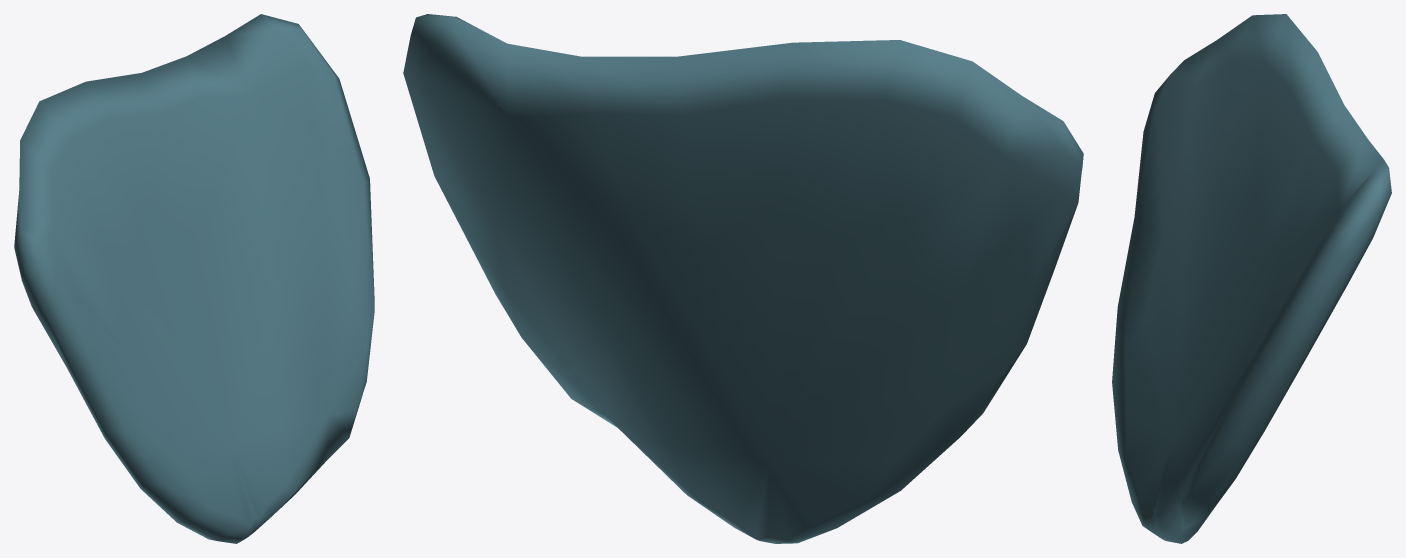
Rendered from Extensor_digitorum-proximal_phalanx-4th_finger.l_Generated_Mesh.glb.
The picture shows the model from 3 angles, left to right: view 1: azimuth 30°, elevation 25°; view 2: azimuth 150°, elevation 25°; view 3: azimuth 270°, elevation 25°; orthographic projection. The views are drawn at different scales.
Visible parts, largest first — view 1: Extensor_digitorum-proximal_phalanx-4th_finger.l_Generated_M; view 2: Extensor_digitorum-proximal_phalanx-4th_finger.l_Generated_M; view 3: Extensor_digitorum-proximal_phalanx-4th_finger.l_Generated_M.
Part boxes in pixels (<box>): Extensor_digitorum-proximal_phalanx-4th_finger.l_Generated_M: <box>14,14,374,543</box>; Extensor_digitorum-proximal_phalanx-4th_finger.l_Generated_M: <box>403,14,1083,543</box>; Extensor_digitorum-proximal_phalanx-4th_finger.l_Generated_M: <box>1112,14,1391,543</box>.
Bounding box in the file's own units: 0.00546 × 0.00556 × 0.00312.
